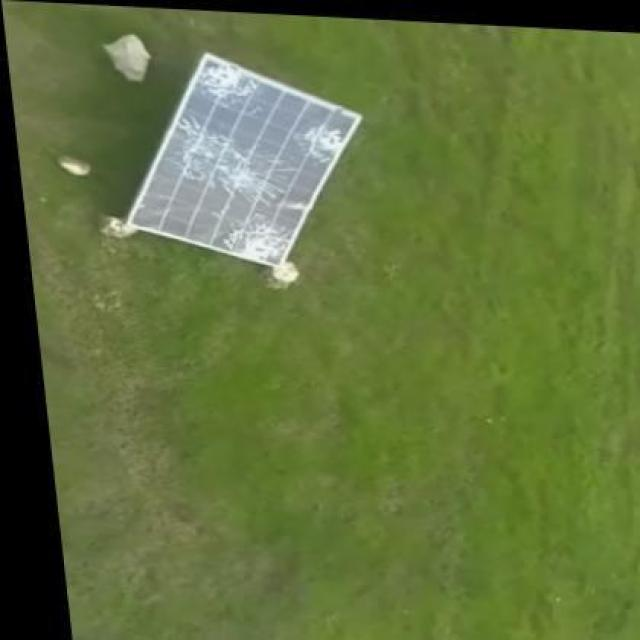cracked: (124, 52, 368, 268)
